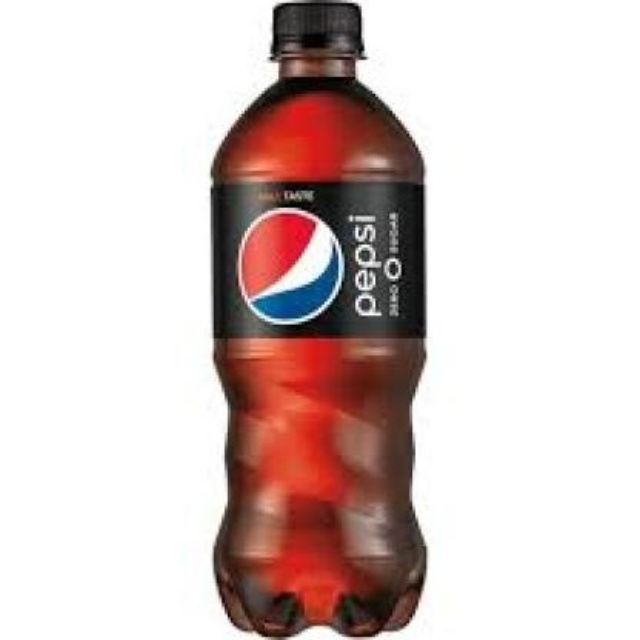trash: (212, 0, 425, 635)
